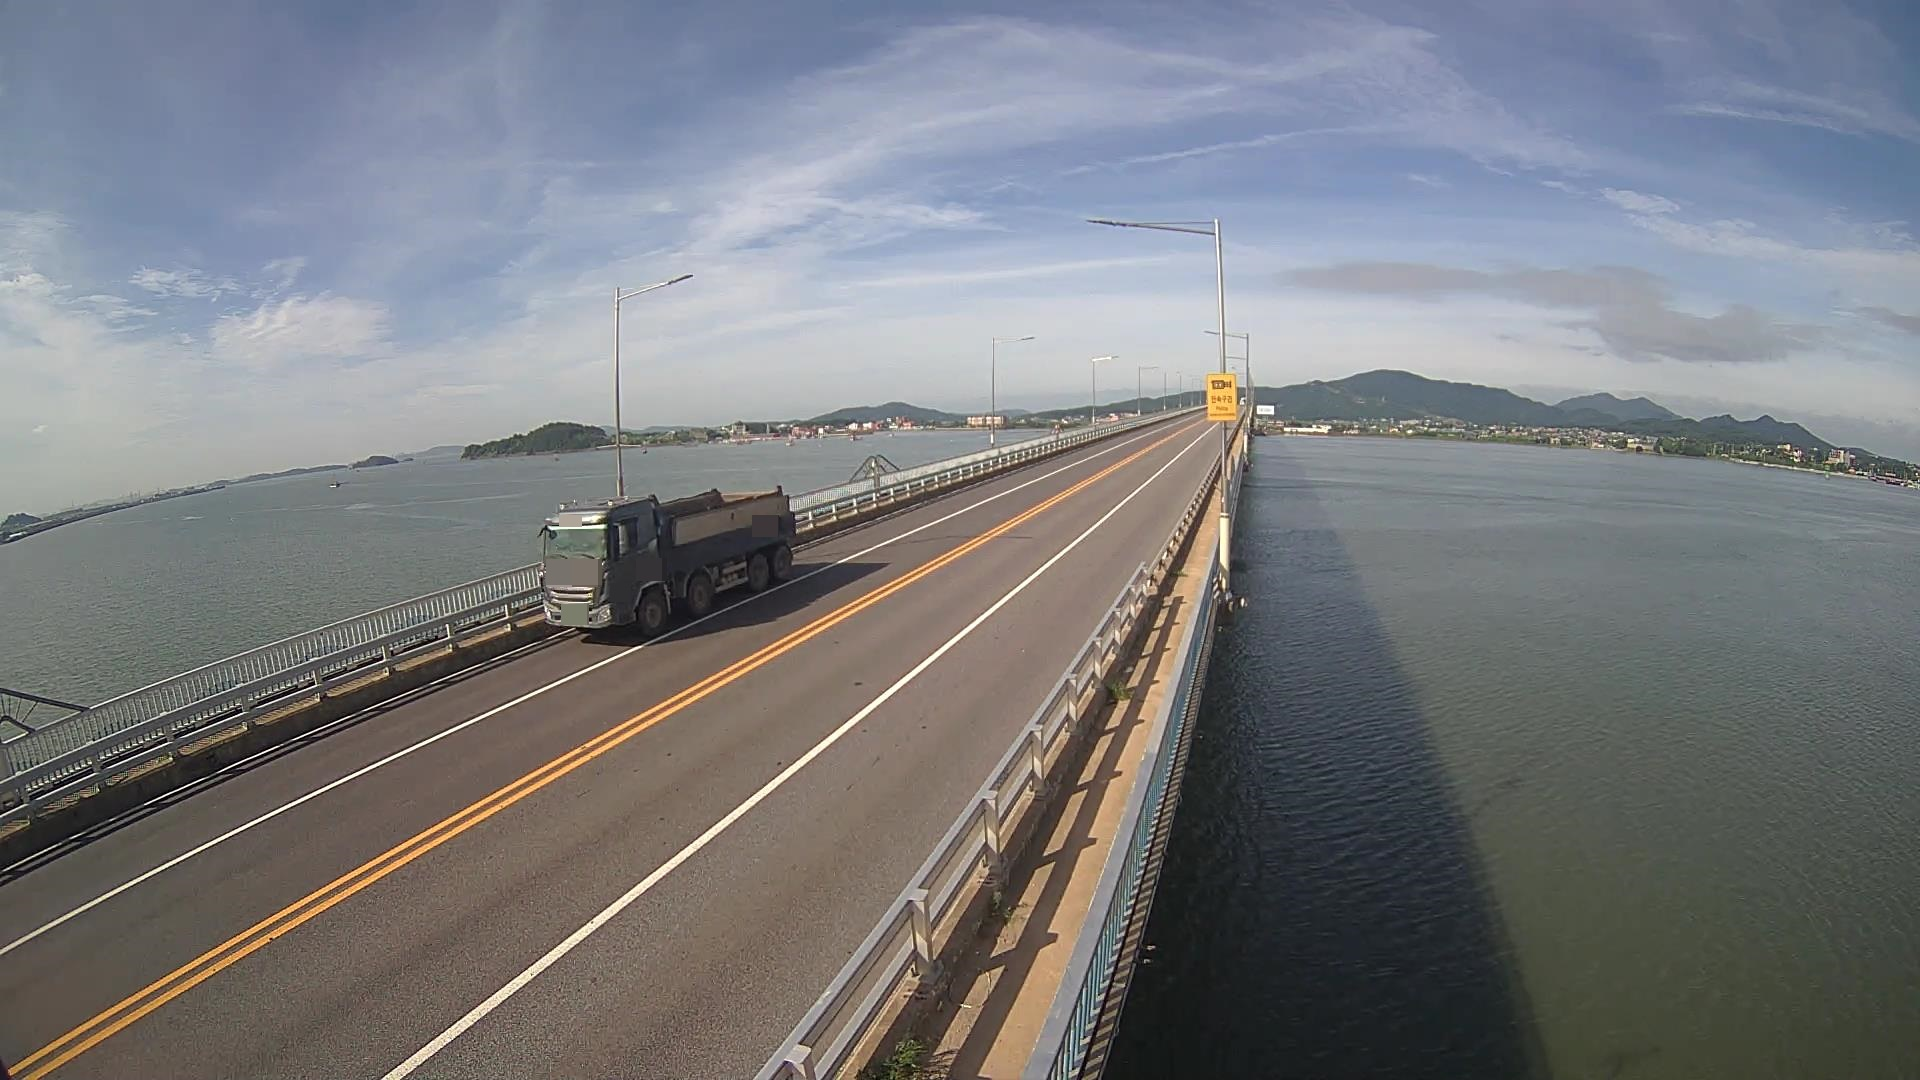정상차량: (537, 485, 796, 637)
